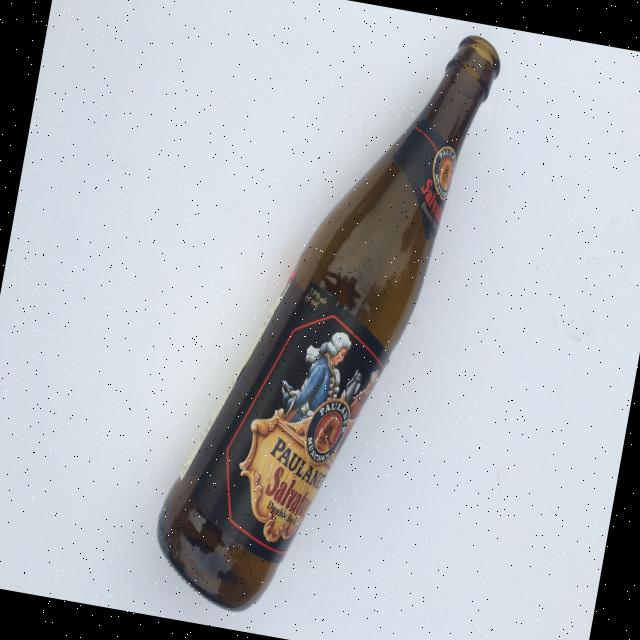glass: (143, 0, 505, 640)
